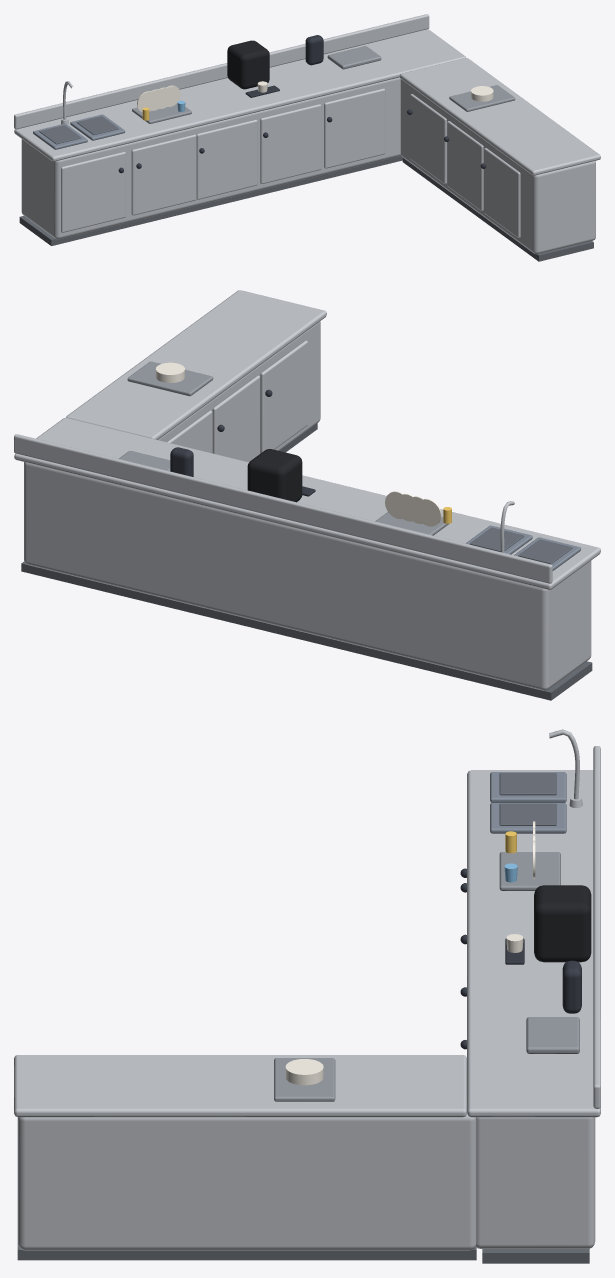
Rendered from sink-steel.glb.
3 renders of one model, top to bottom at view 1: azimuth 30°, elevation 25°; view 2: azimuth 150°, elevation 25°; view 3: azimuth 270°, elevation 25°, orthographic. The views are drawn at different scales.
Bounding box in the file's own units: 4.22 × 1.33 × 3.07.
